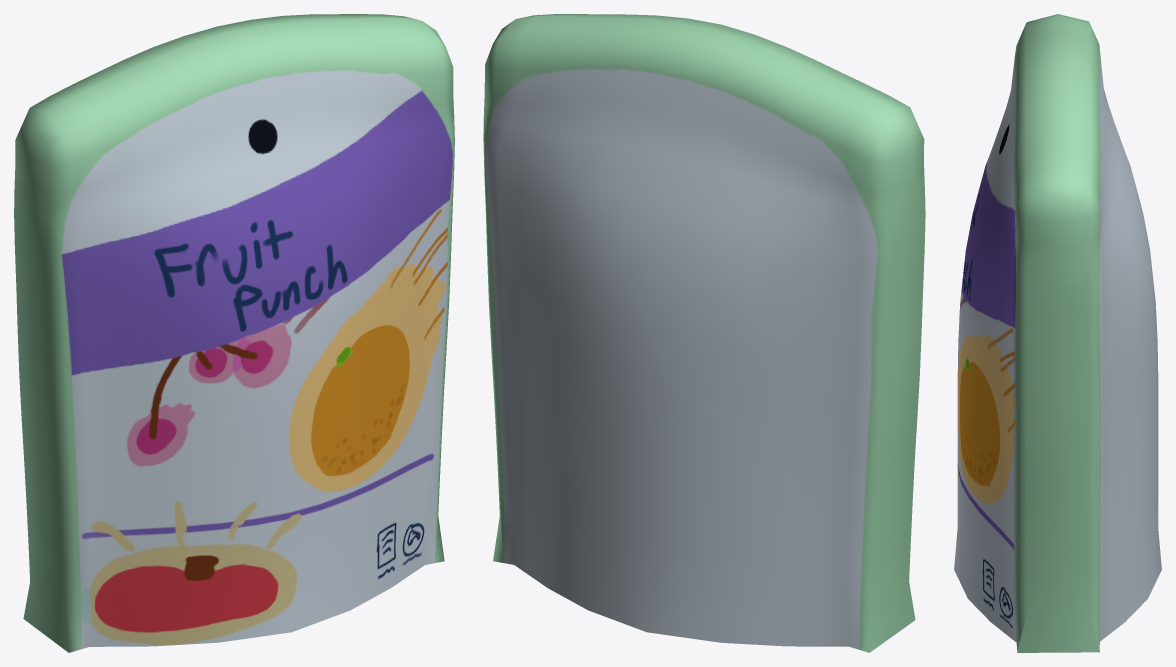
The model's file is Juicebox.fbx.
3 views of the same model, side by side, from view 1: azimuth 30°, elevation 25°; view 2: azimuth 150°, elevation 25°; view 3: azimuth 270°, elevation 25° (orthographic). The views are drawn at different scales.
Visible parts, largest first — view 1: juicebox1; view 2: juicebox1; view 3: juicebox1.
Part boxes in pixels (x1,y1,x2,y2): juicebox1: (14, 14, 454, 652); juicebox1: (483, 14, 925, 652); juicebox1: (954, 14, 1161, 652).
Bounding box in the file's own units: 7.7 × 9.97 × 3.71.
Materials: 1 (1 with a texture image).
